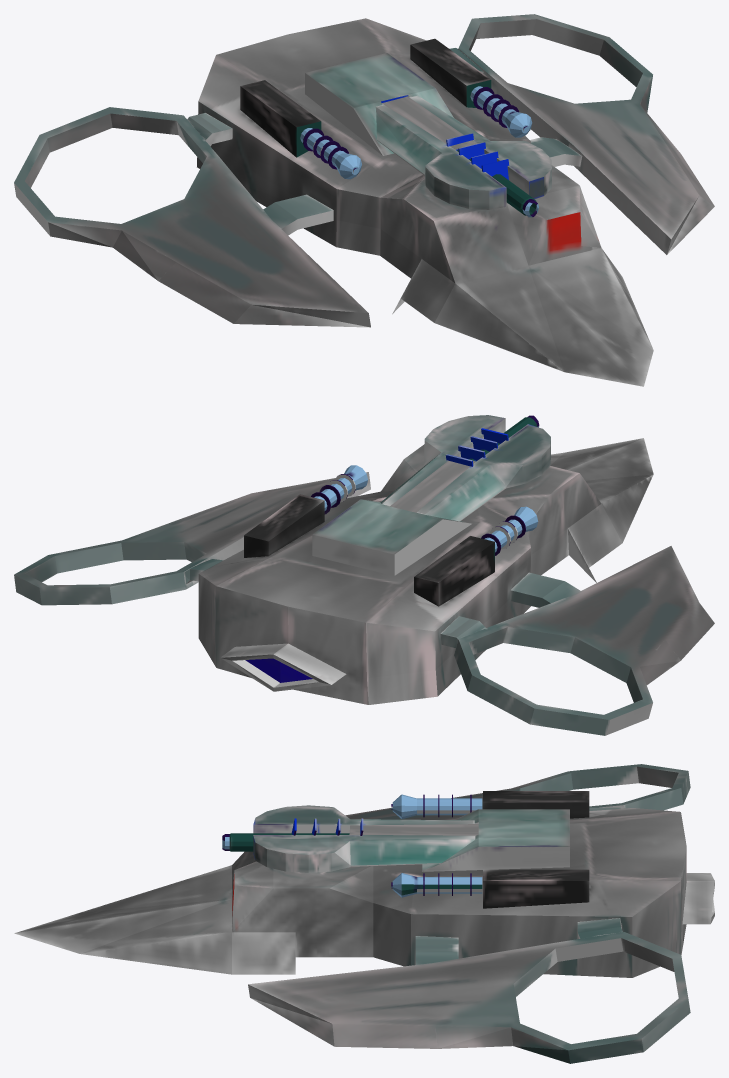
Rendered from Drone revamped 2 final textures.fbx.
3 renders of one model, top to bottom at view 1: azimuth 30°, elevation 25°; view 2: azimuth 150°, elevation 25°; view 3: azimuth 270°, elevation 25°, orthographic. The views are drawn at different scales.
Visible parts, largest first — view 1: Cube; view 2: Cube; view 3: Cube.
Part boxes in pixels (x1,y1,x2,y2): Cube: [14, 14, 714, 386]; Cube: [14, 415, 714, 735]; Cube: [14, 764, 714, 1063].
Size of the model in its own units: 500 by 101 by 531.
